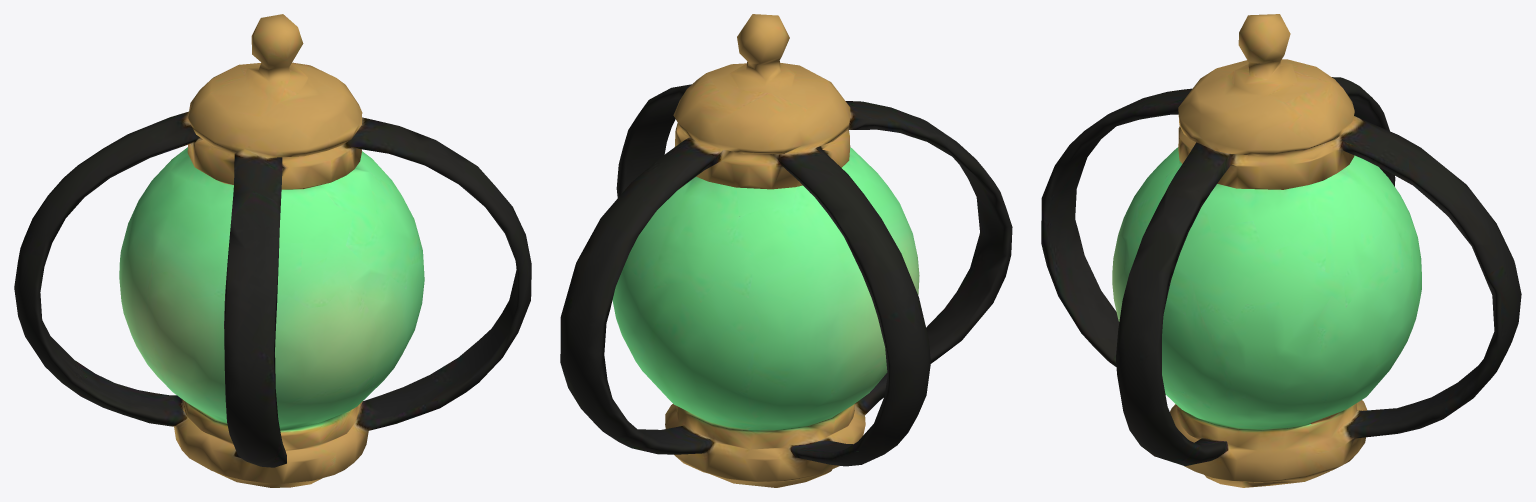
File: w-lantern.glb
3 views of the same model, side by side, from view 1: azimuth 30°, elevation 25°; view 2: azimuth 150°, elevation 25°; view 3: azimuth 270°, elevation 25° (orthographic).
Parts seen in each view (by area): view 1: weapon; view 2: weapon; view 3: weapon.
Part boxes in pixels (x1,y1,x2,y2): weapon: [14, 14, 531, 487]; weapon: [560, 14, 1012, 487]; weapon: [1041, 14, 1521, 487].
Bounding box in the file's own units: 0.997 × 1.03 × 1.
Materials: 1 (1 with a texture image).
